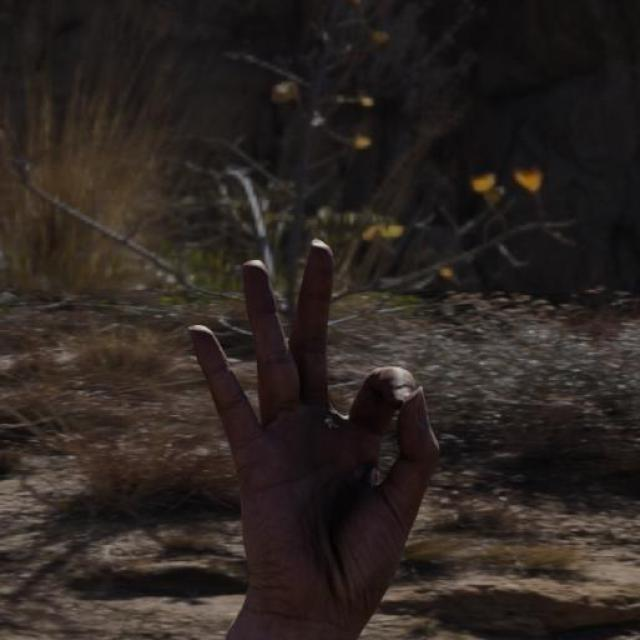F: (181, 234, 444, 627)
